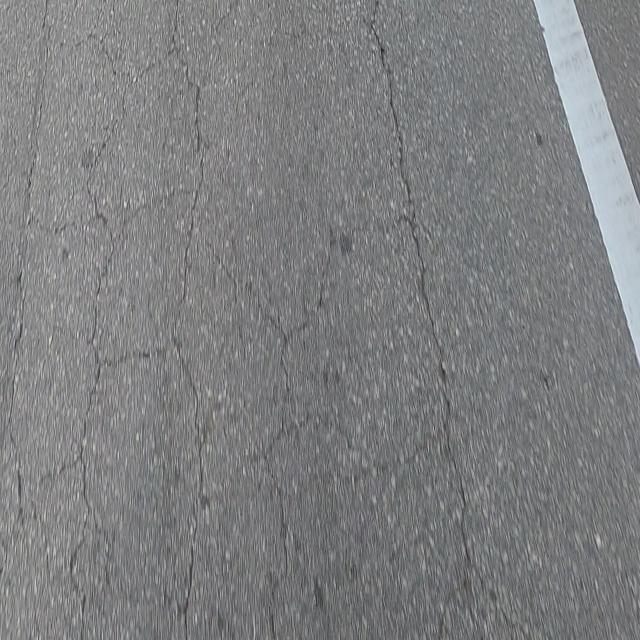Retak-Buaya: (3, 32, 341, 640)
Retak-Memanjang: (363, 9, 517, 640)
